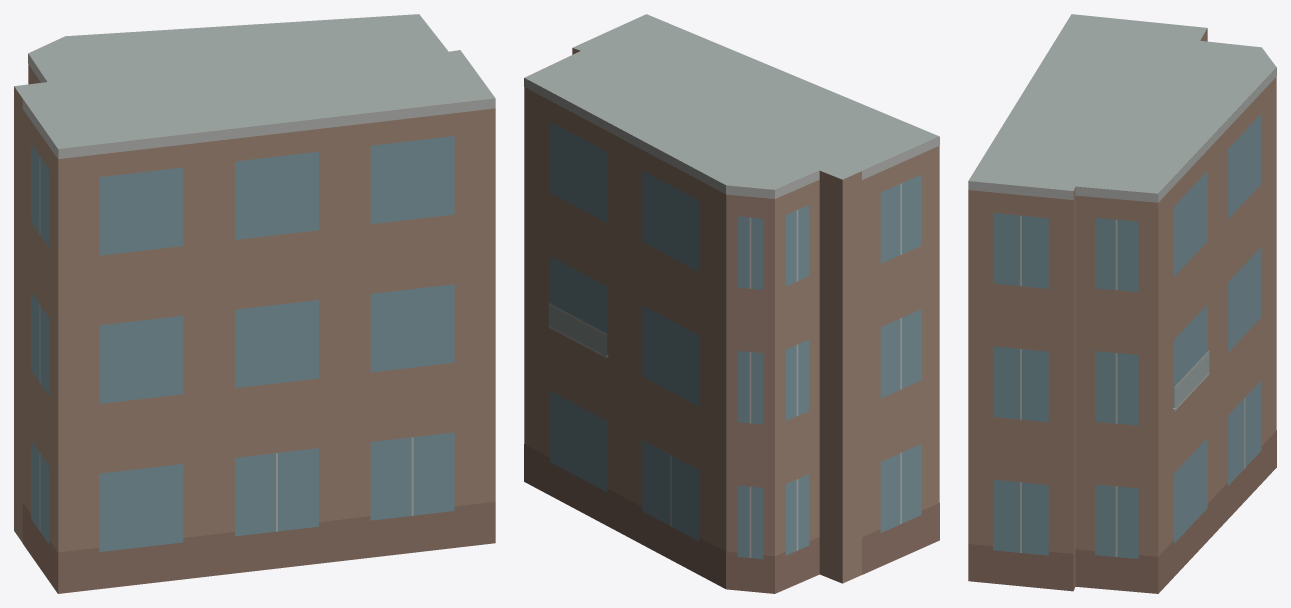
The model's file is survey-upis-32495506.glb.
3 renders of one model, left to right at view 1: azimuth 30°, elevation 25°; view 2: azimuth 150°, elevation 25°; view 3: azimuth 270°, elevation 25°, orthographic. The views are drawn at different scales.
Parts seen in each view (by area): view 1: survey-upis-32495506.tmp; view 2: survey-upis-32495506.tmp; view 3: survey-upis-32495506.tmp.
Boxes of the visible parts, bbox=[...] form: survey-upis-32495506.tmp: bbox=[14, 14, 495, 593]; survey-upis-32495506.tmp: bbox=[524, 14, 939, 593]; survey-upis-32495506.tmp: bbox=[968, 14, 1276, 593].
Bounding box in the file's own units: 10.41 × 10.8 × 7.56.
